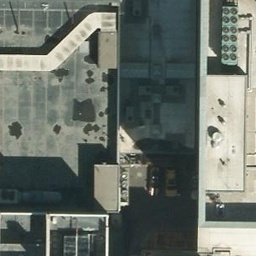car: (144, 165, 164, 202), (166, 166, 186, 200)
